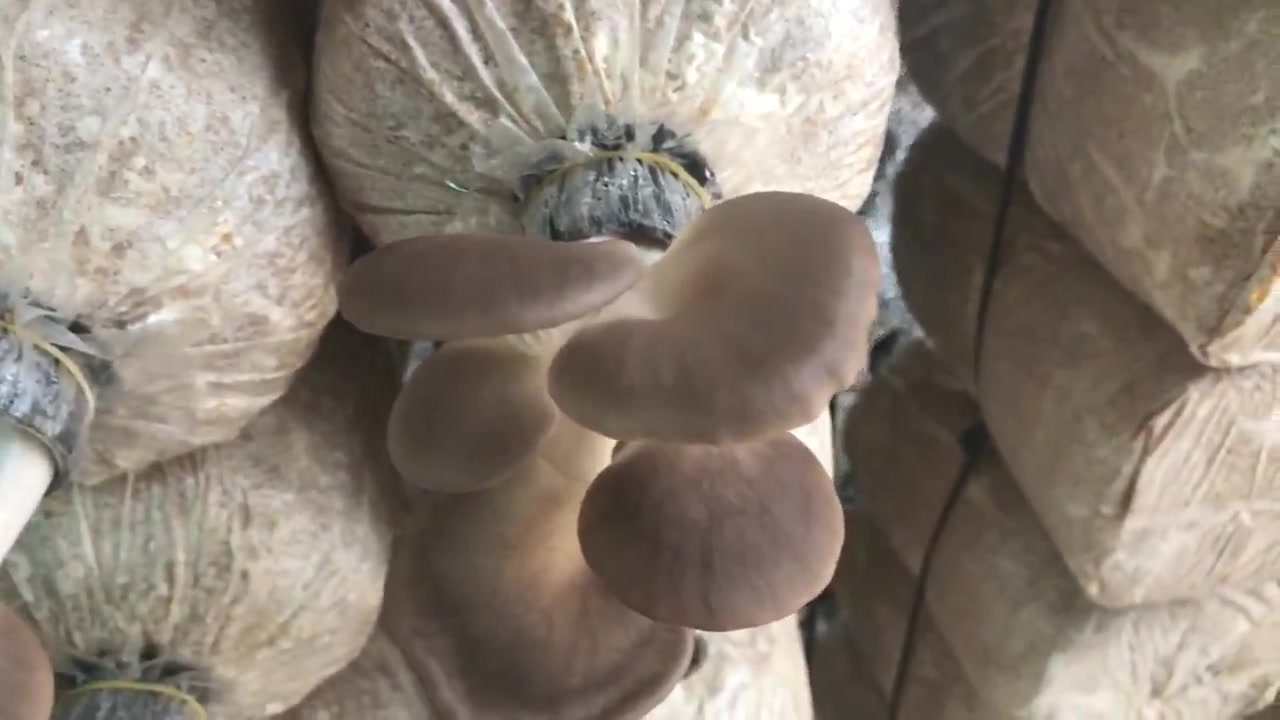nam: (335, 152, 880, 720), (1, 319, 109, 720)
